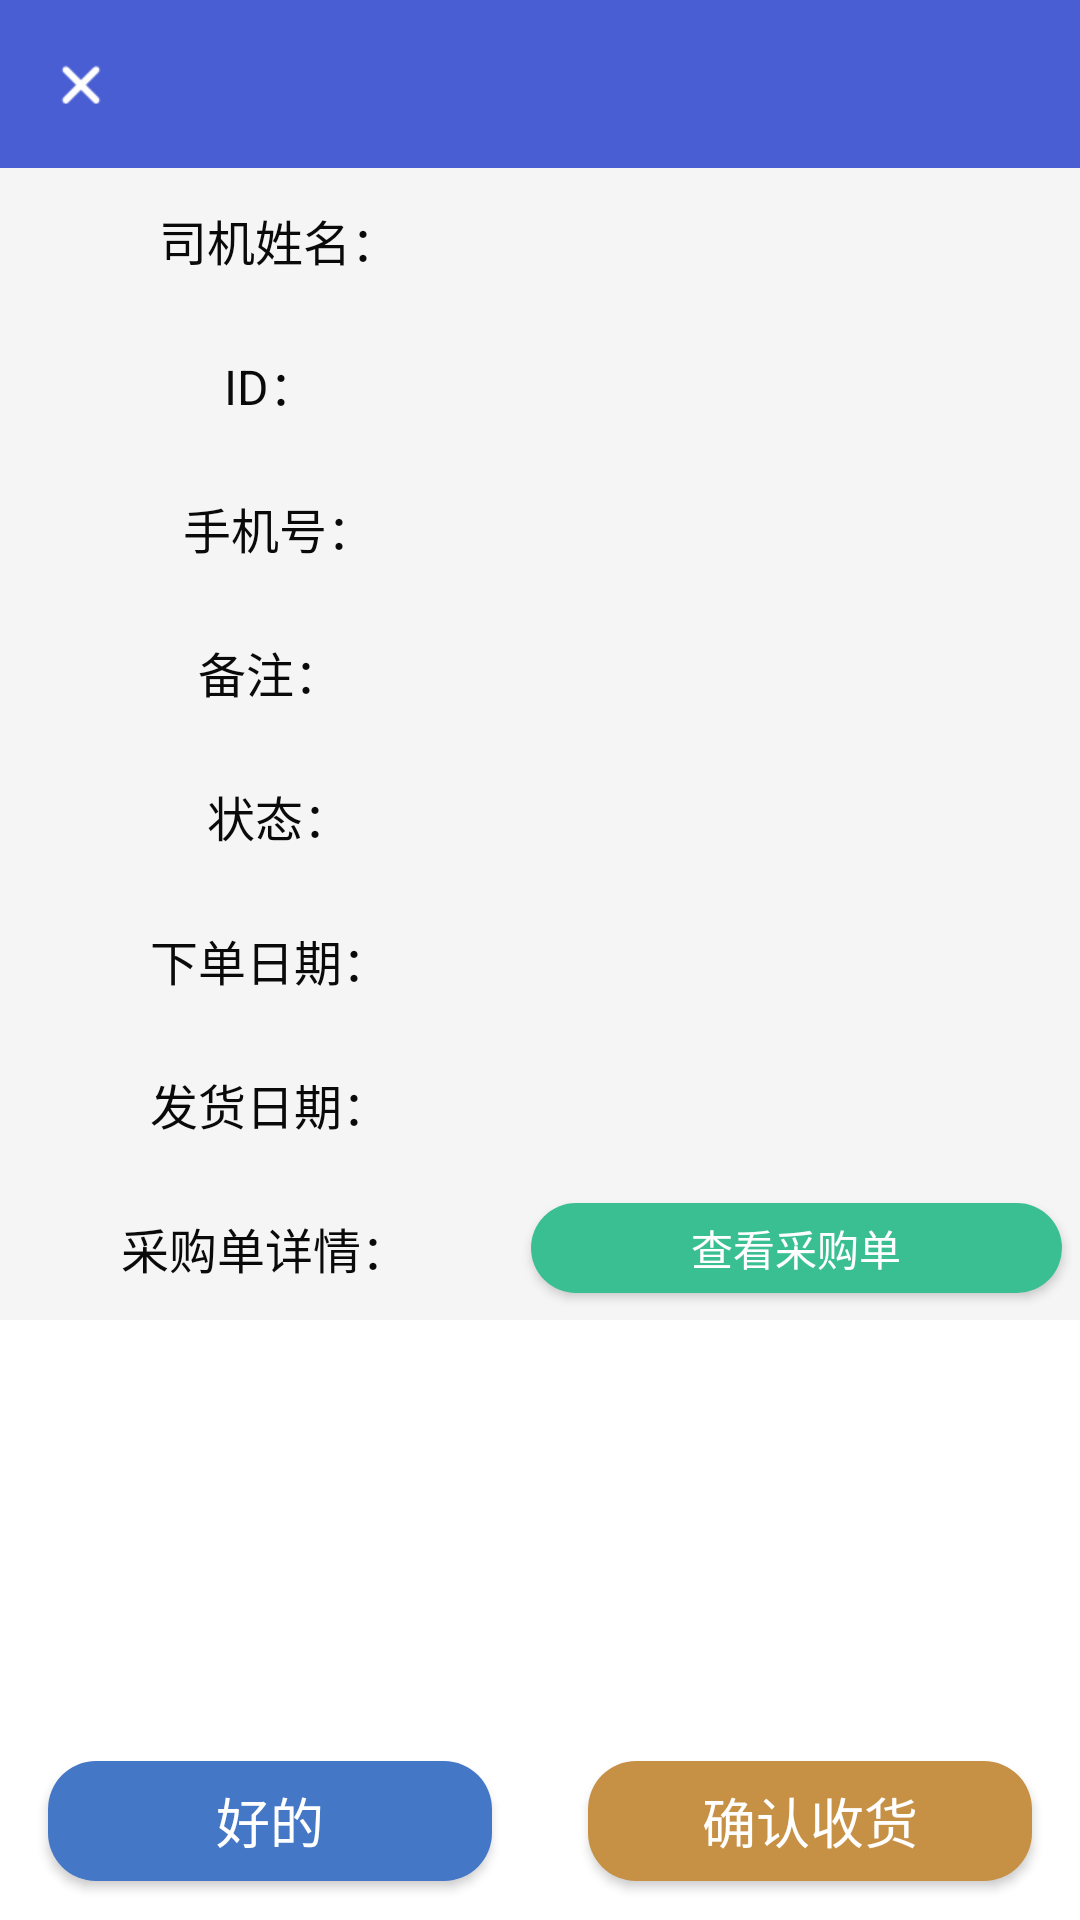

Icons on this 1080 x 1920 Android screen, each with the point to tap as point (x, y):
cancel: point (81, 85)
